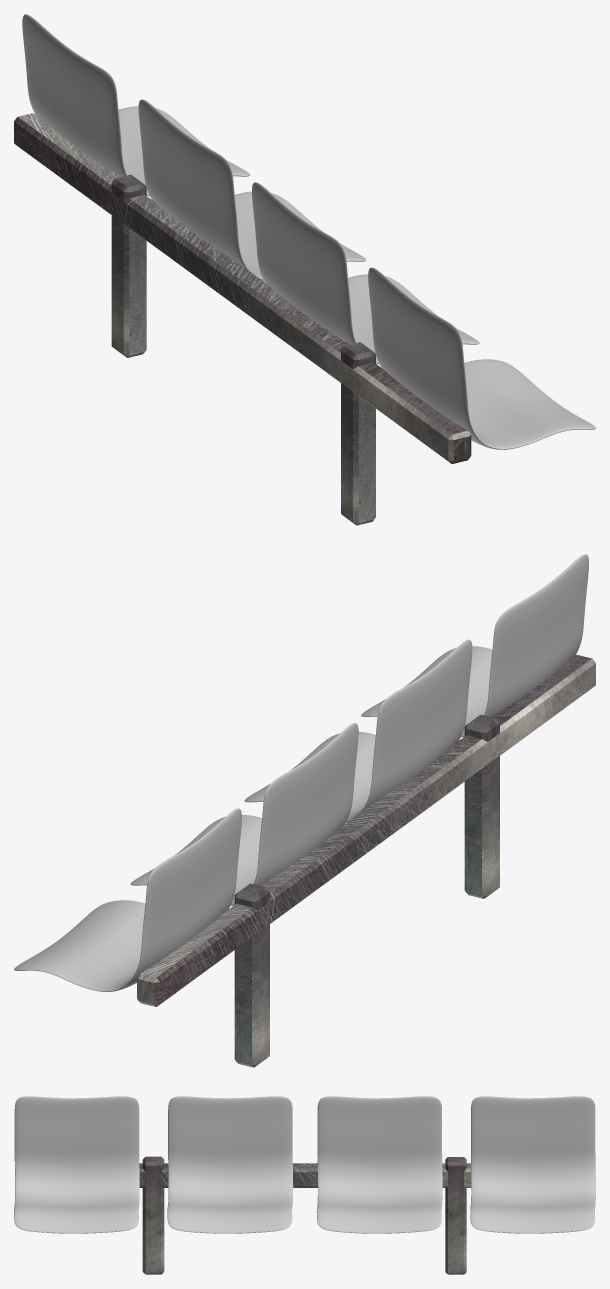
File: MetroChairsTexture.fbx
3 renders of one model, top to bottom at view 1: azimuth 30°, elevation 25°; view 2: azimuth 150°, elevation 25°; view 3: azimuth 270°, elevation 25°, orthographic. The views are drawn at different scales.
Parts seen in each view (by area): view 1: Cube, Plane.003, Plane.001, Plane, Plane.002, Cube.002, Cube.001; view 2: Cube, Plane.001, Plane.002, Plane, Plane.003, Cube.002, Cube.001; view 3: Plane.003, Plane, Plane.002, Plane.001, Cube.001, Cube.002, Cube.
Part boxes in pixels (bbox=[...]): Cube: bbox=[14, 113, 471, 463]; Plane.003: bbox=[368, 267, 595, 449]; Plane.001: bbox=[22, 14, 249, 196]; Plane: bbox=[138, 99, 366, 280]; Plane.002: bbox=[252, 182, 479, 364]; Cube.002: bbox=[111, 174, 146, 357]; Cube.001: bbox=[341, 342, 375, 525]; Cube: bbox=[137, 654, 595, 1006]; Plane.001: bbox=[14, 808, 241, 991]; Plane.002: bbox=[244, 639, 472, 822]; Plane: bbox=[130, 723, 358, 905]; Plane.003: bbox=[361, 554, 588, 737]; Cube.002: bbox=[234, 883, 269, 1067]; Cube.001: bbox=[464, 714, 499, 898]; Plane.003: bbox=[14, 1096, 139, 1233]; Plane: bbox=[316, 1096, 442, 1233]; Plane.002: bbox=[167, 1096, 293, 1233]; Plane.001: bbox=[470, 1096, 595, 1233]; Cube.001: bbox=[142, 1156, 164, 1274]; Cube.002: bbox=[445, 1157, 466, 1274]; Cube: bbox=[139, 1163, 471, 1187].
Bounding box in the file's own units: 181 × 304 × 916.
